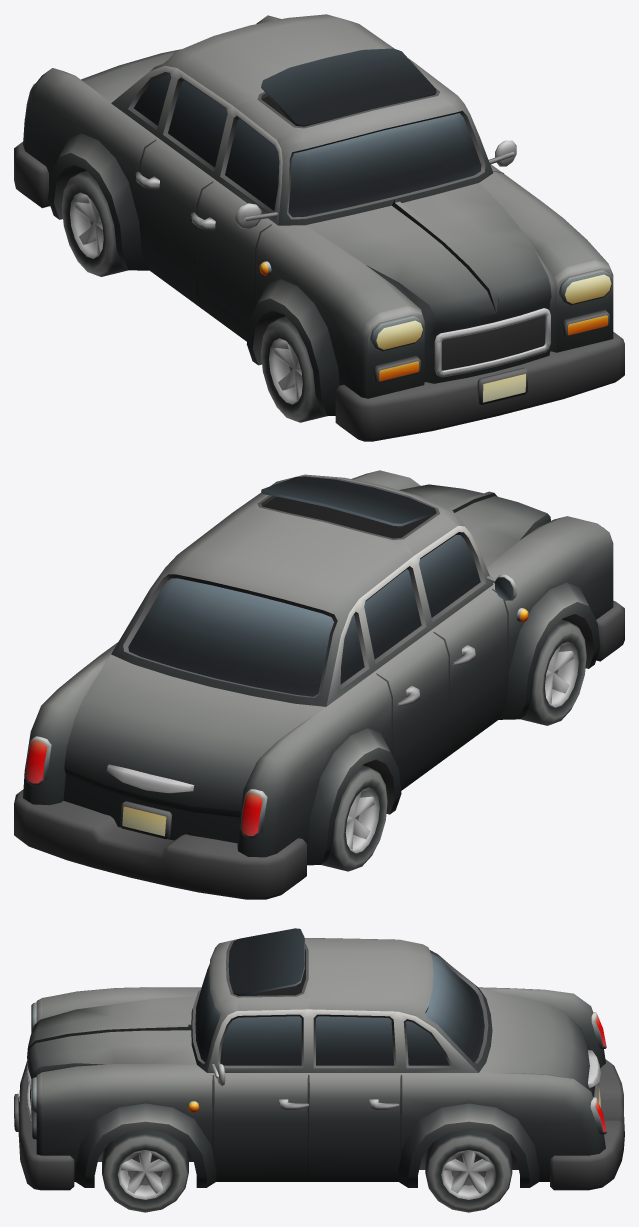
The model's file is Car_3C.fbx.
The picture shows the model from 3 angles, top to bottom: view 1: azimuth 30°, elevation 25°; view 2: azimuth 150°, elevation 25°; view 3: azimuth 270°, elevation 25°; orthographic projection. The views are drawn at different scales.
Visible parts, largest first — view 1: Car_3C, Wheel_3C_R.R, Wheel_3C_F.R; view 2: Car_3C, Wheel_3C_F.R, Wheel_3C_R.R; view 3: Car_3C, Wheel_3C_R.L, Wheel_3C_F.L.
Boxes of the visible parts, bbox=[...] form: Car_3C: bbox=[14, 14, 624, 441]; Wheel_3C_R.R: bbox=[62, 171, 128, 276]; Wheel_3C_F.R: bbox=[261, 316, 327, 422]; Car_3C: bbox=[14, 470, 624, 899]; Wheel_3C_F.R: bbox=[520, 620, 586, 725]; Wheel_3C_R.R: bbox=[321, 765, 387, 871]; Car_3C: bbox=[14, 928, 624, 1190]; Wheel_3C_R.L: bbox=[425, 1129, 512, 1212]; Wheel_3C_F.L: bbox=[102, 1129, 188, 1212].
Size of the model in its own units: 243 by 212 by 562.
